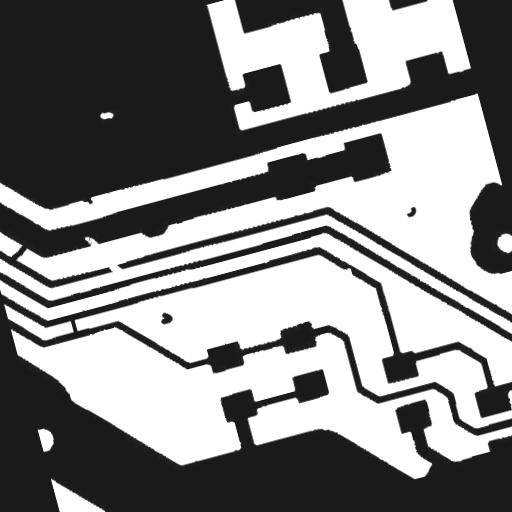copper: (149, 300, 182, 334), (395, 196, 426, 226)
mousebite: (74, 224, 108, 258), (333, 258, 361, 286)
open: (98, 250, 132, 284)
pin-hole: (90, 100, 122, 130)
short: (0, 232, 39, 273), (60, 306, 88, 344)
spur: (72, 186, 102, 214)
